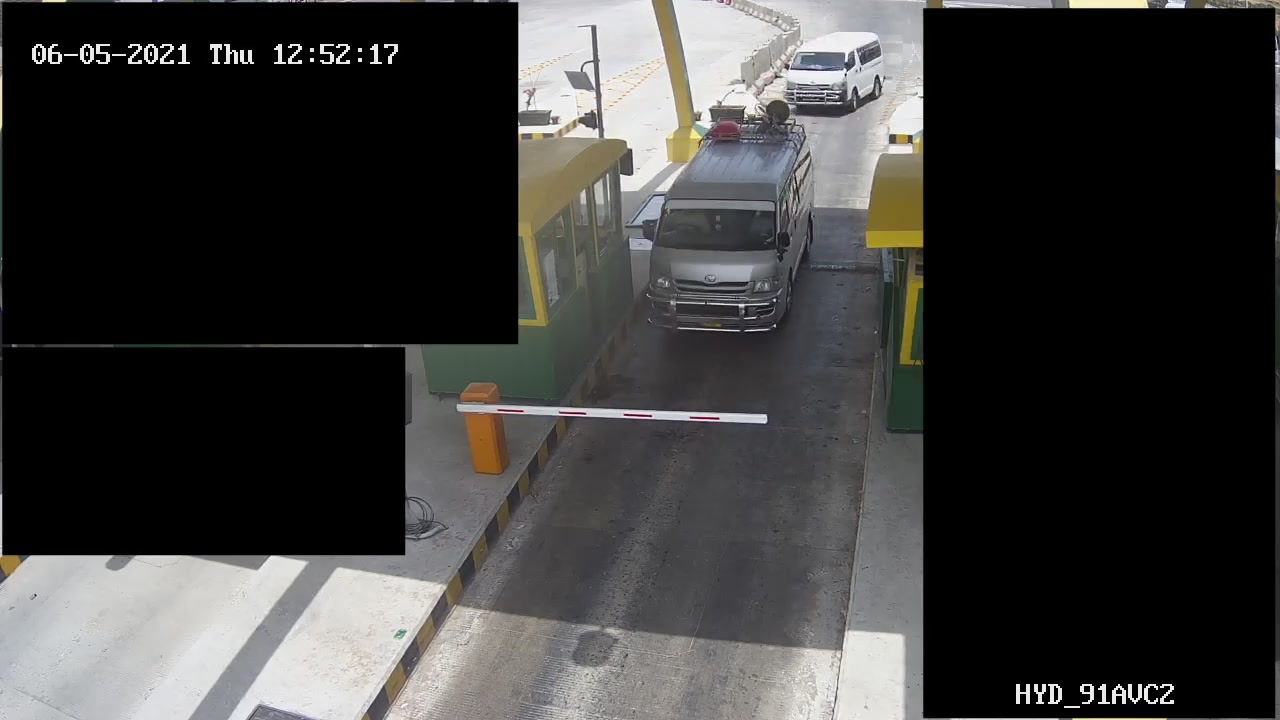F2: (643, 99, 815, 340)
